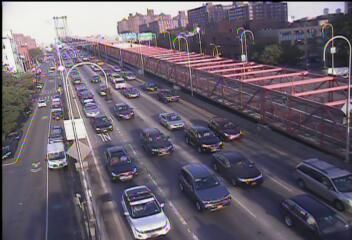neg: (166, 180, 192, 214), (144, 124, 167, 154), (70, 160, 93, 190), (111, 112, 131, 139), (53, 14, 72, 40), (198, 95, 217, 120), (156, 45, 175, 70), (238, 48, 256, 73), (108, 39, 126, 63), (211, 166, 229, 190), (256, 143, 274, 167), (59, 73, 76, 96), (289, 93, 306, 116), (236, 89, 252, 110), (121, 192, 136, 212), (60, 114, 74, 132)
